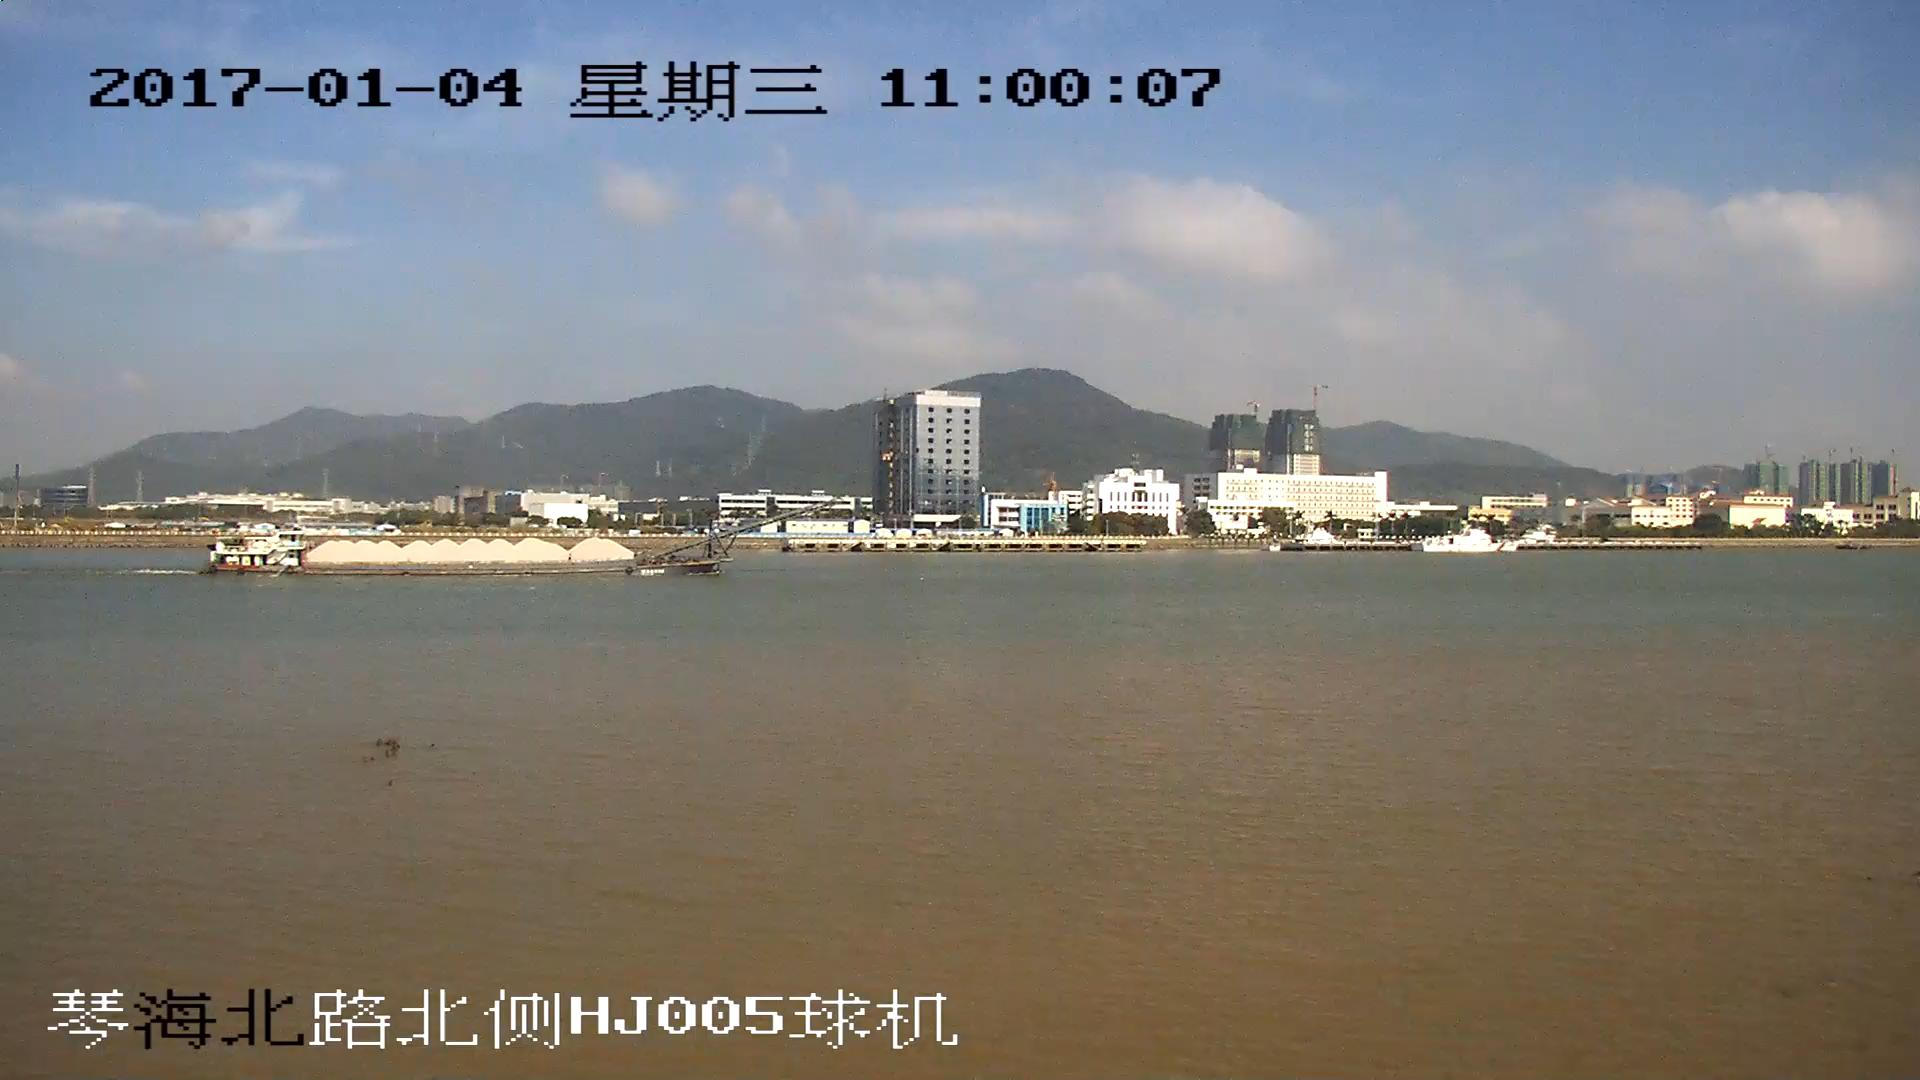ore carrier: (208, 500, 832, 577)
